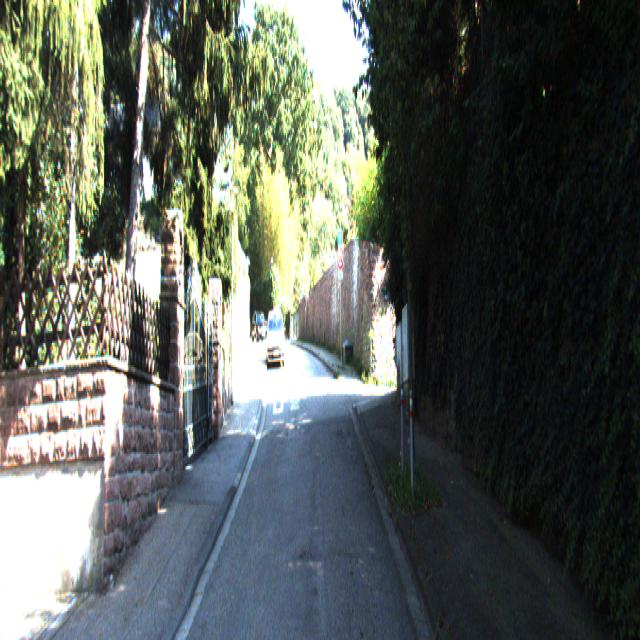Car: (266, 308, 284, 371), (252, 311, 269, 348)
